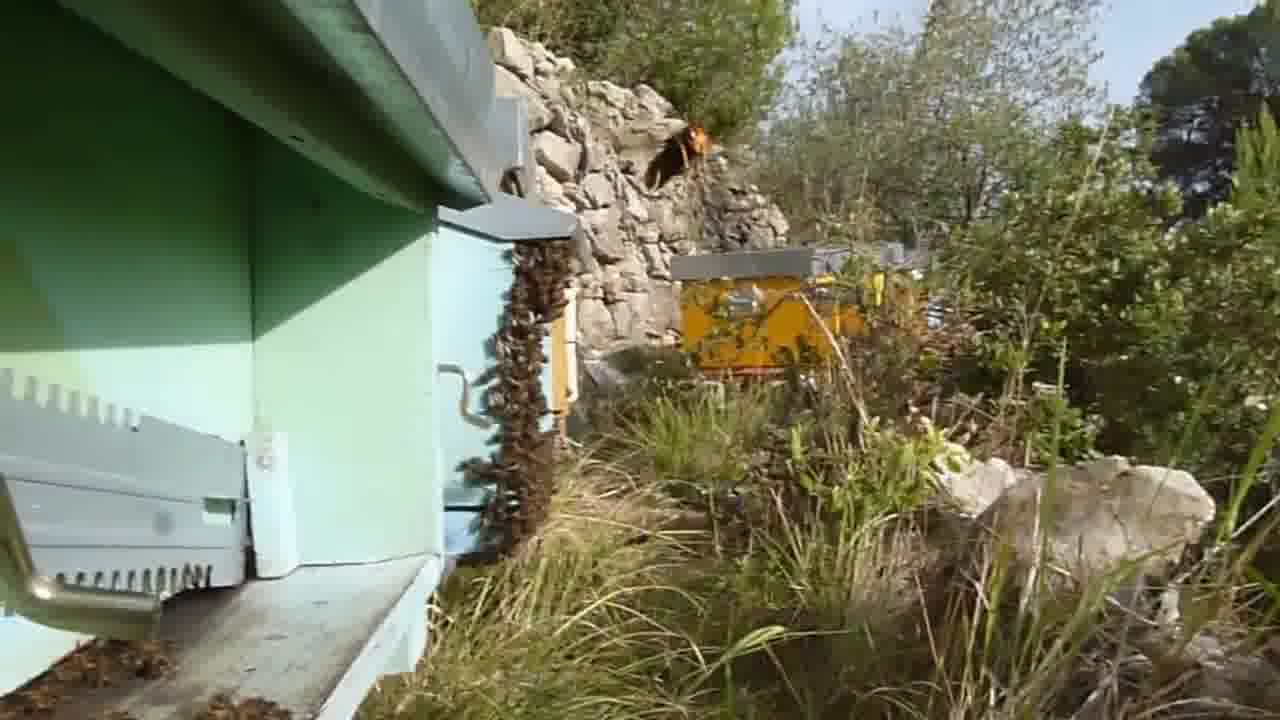bee: (457, 466, 550, 555), (487, 319, 558, 408), (506, 240, 582, 317), (63, 633, 156, 690), (478, 407, 564, 467)
hornet: (638, 122, 718, 199)
